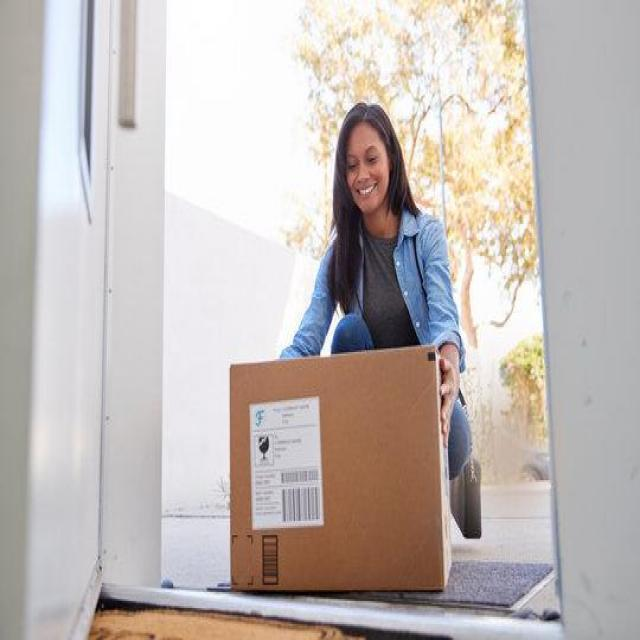box: (224, 338, 452, 595)
